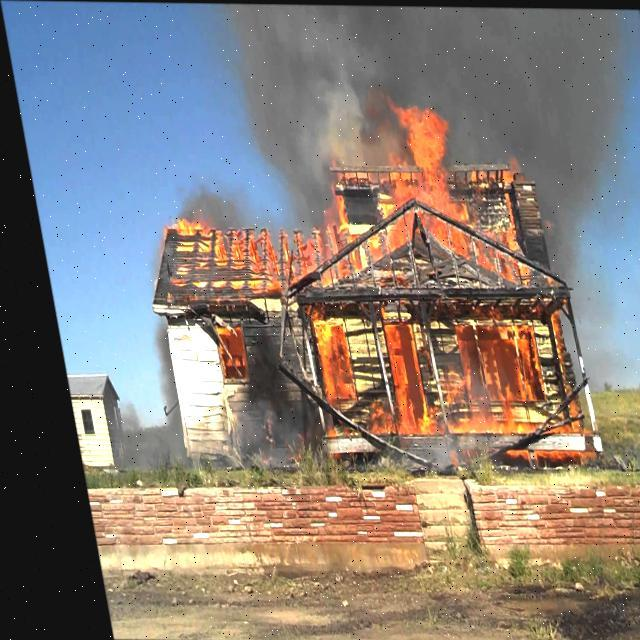Fire: (127, 89, 586, 458)
